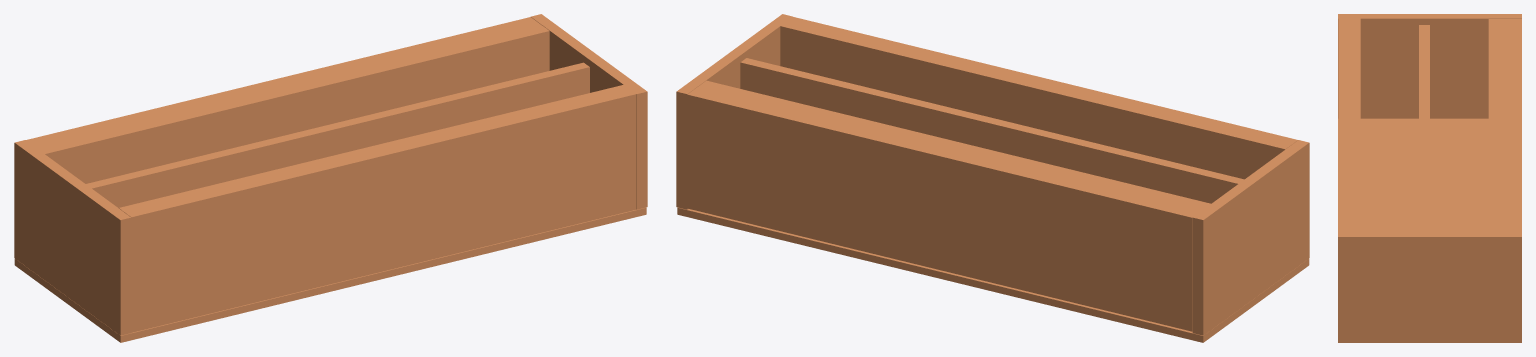
Rendered from kitchencabinet_collision.obj.
3 renders of one model, left to right at view 1: azimuth 30°, elevation 25°; view 2: azimuth 150°, elevation 25°; view 3: azimuth 270°, elevation 25°, orthographic. The views are drawn at different scales.
Visible parts, largest first — view 1: kitchenCabinet1.001_ID7.011, kitchenCabinet1.001_ID7.008, kitchenCabinet1.001_ID7.007, kitchenCabinet1.001_ID7.001, kitchenCabinet1.001_ID7.010, kitchenCabinet1.001_ID7.009; view 2: kitchenCabinet1.001_ID7.008, kitchenCabinet1.001_ID7.011, kitchenCabinet1.001_ID7.007, kitchenCabinet1.001_ID7.001, kitchenCabinet1.001_ID7.010, kitchenCabinet1.001_ID7.009; view 3: kitchenCabinet1.001_ID7.009, kitchenCabinet1.001_ID7.010, kitchenCabinet1.001_ID7.001, kitchenCabinet1.001_ID7.008, kitchenCabinet1.001_ID7.011, kitchenCabinet1.001_ID7.007.
Part boxes in pixels (bbox=[...]): kitchenCabinet1.001_ID7.011: bbox=[119, 84, 636, 332]; kitchenCabinet1.001_ID7.008: bbox=[26, 17, 549, 183]; kitchenCabinet1.001_ID7.007: bbox=[86, 62, 589, 207]; kitchenCabinet1.001_ID7.001: bbox=[14, 140, 131, 335]; kitchenCabinet1.001_ID7.010: bbox=[14, 207, 646, 342]; kitchenCabinet1.001_ID7.009: bbox=[531, 14, 647, 209]; kitchenCabinet1.001_ID7.008: bbox=[687, 80, 1210, 331]; kitchenCabinet1.001_ID7.011: bbox=[780, 17, 1297, 179]; kitchenCabinet1.001_ID7.007: bbox=[740, 58, 1244, 203]; kitchenCabinet1.001_ID7.001: bbox=[1192, 140, 1309, 335]; kitchenCabinet1.001_ID7.010: bbox=[677, 207, 1309, 342]; kitchenCabinet1.001_ID7.009: bbox=[676, 14, 792, 209]; kitchenCabinet1.001_ID7.009: bbox=[1338, 232, 1521, 336]; kitchenCabinet1.001_ID7.010: bbox=[1338, 118, 1521, 342]; kitchenCabinet1.001_ID7.001: bbox=[1338, 14, 1521, 118]; kitchenCabinet1.001_ID7.008: bbox=[1488, 19, 1521, 232]; kitchenCabinet1.001_ID7.011: bbox=[1338, 18, 1360, 232]; kitchenCabinet1.001_ID7.007: bbox=[1419, 25, 1429, 232].
Bounding box in the file's own units: 6.28 × 1.4 × 2.19.
